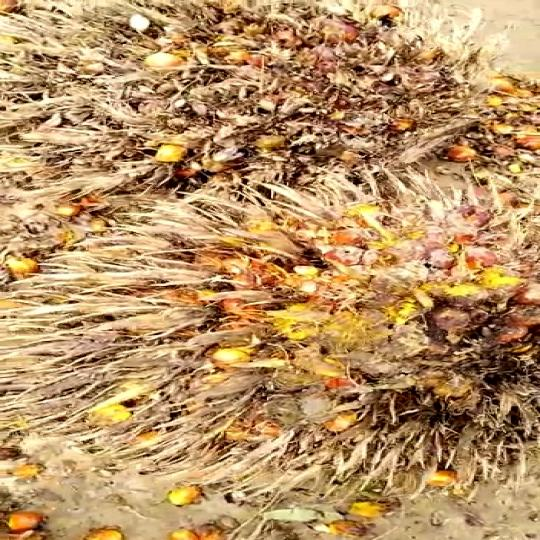terlalu masak: (0, 172, 540, 516), (0, 0, 487, 195)
